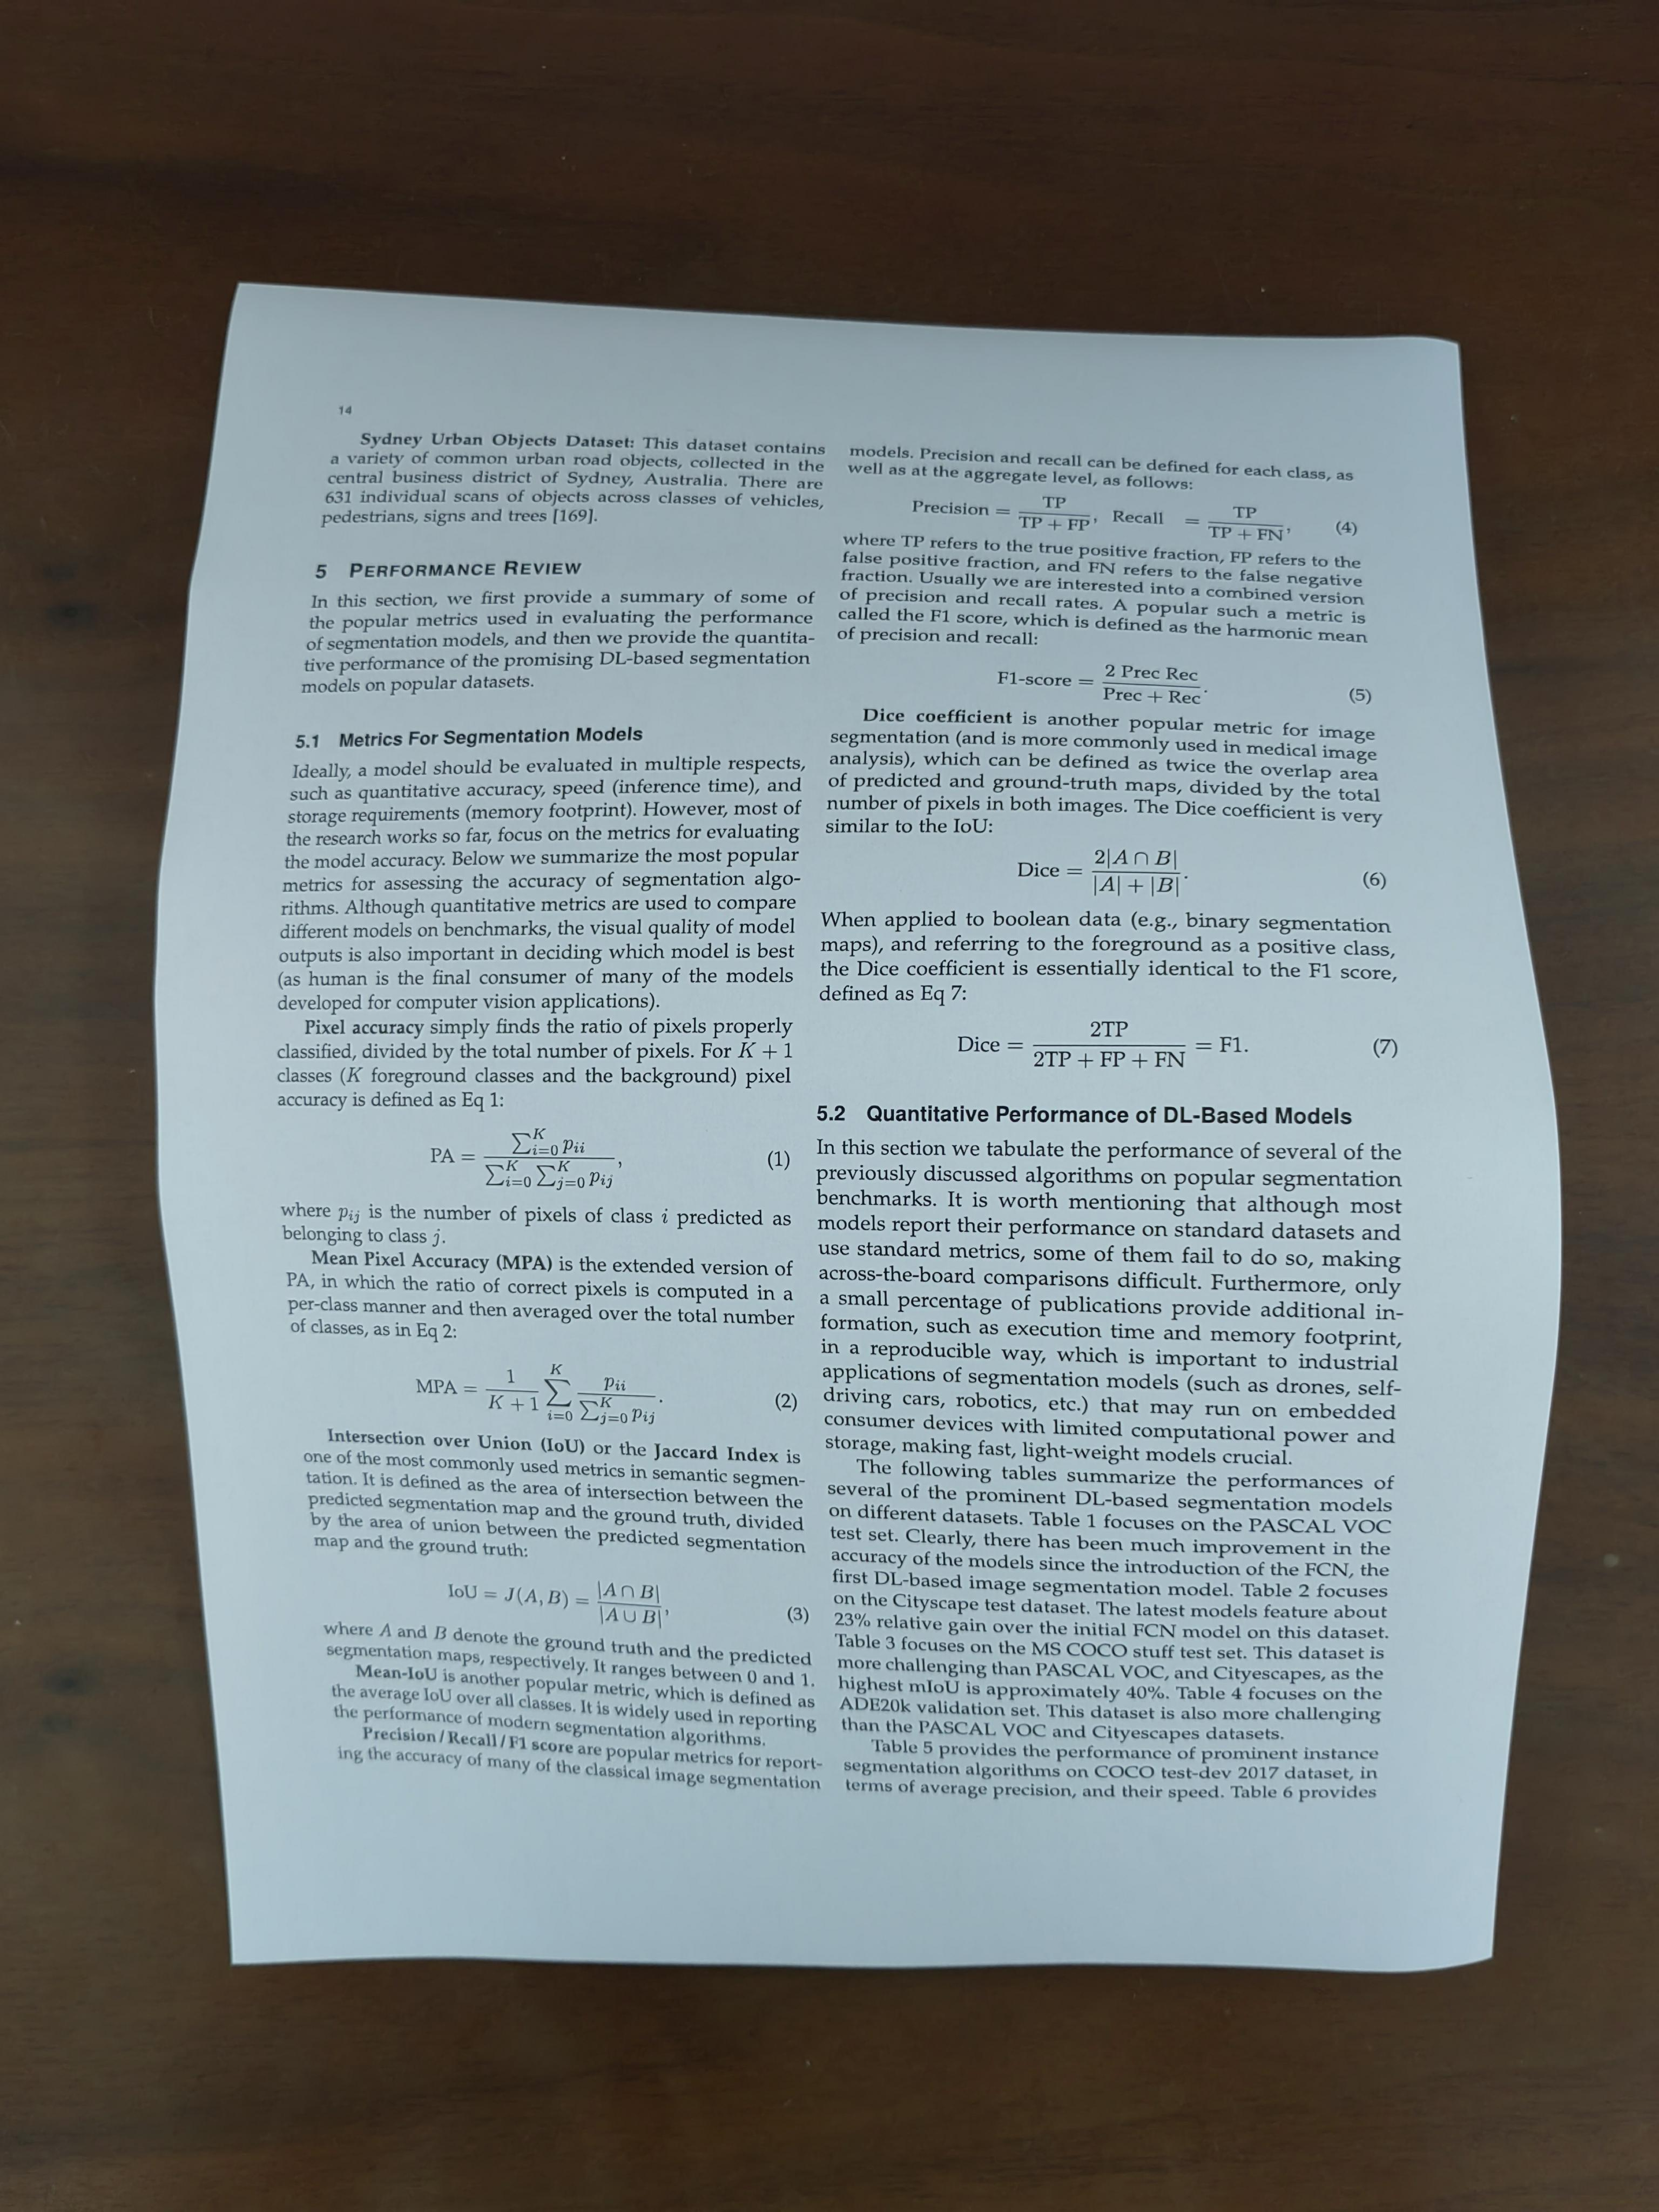paper: (98, 141, 1631, 2132)
